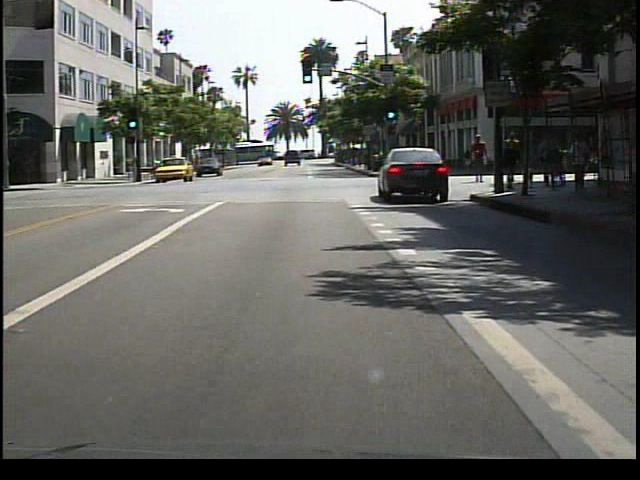person: (469, 132, 494, 188)
